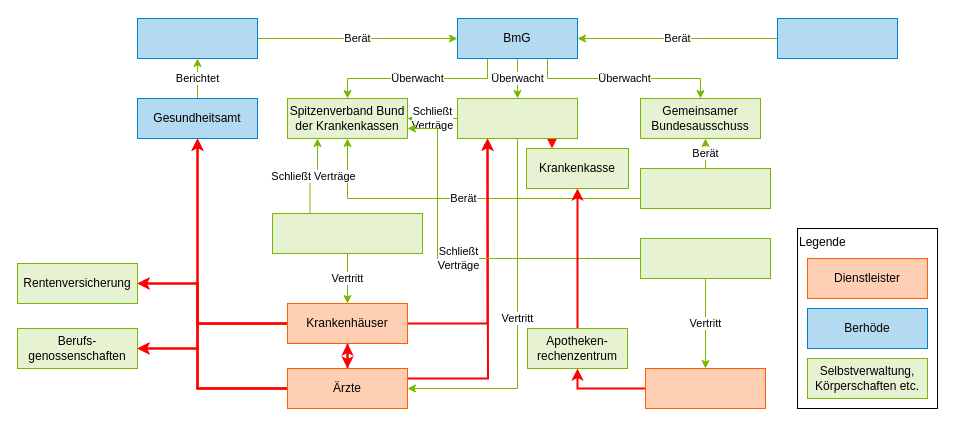
Image size: 955x426. Some labels were removed from this diagram. The shapes that lost their labels are listed below. From the top down, each one's centre as x and y in pixels, then its label:
At (197,38): "Robert Koch-Institut".
At (837,38): "Bundesinstitut für Arzneimittel und Medizinprodukte".
At (517,118): "Kassenärztliche Bundesvereinigung".
At (705,188): "Medizinischer Dienst des Spitzenverbandes".
At (347,233): "Deutsche Krankenhausgesellschaft".
At (705,258): "Deutscher Apothekerverband".
At (705,388): "Apotheker".
